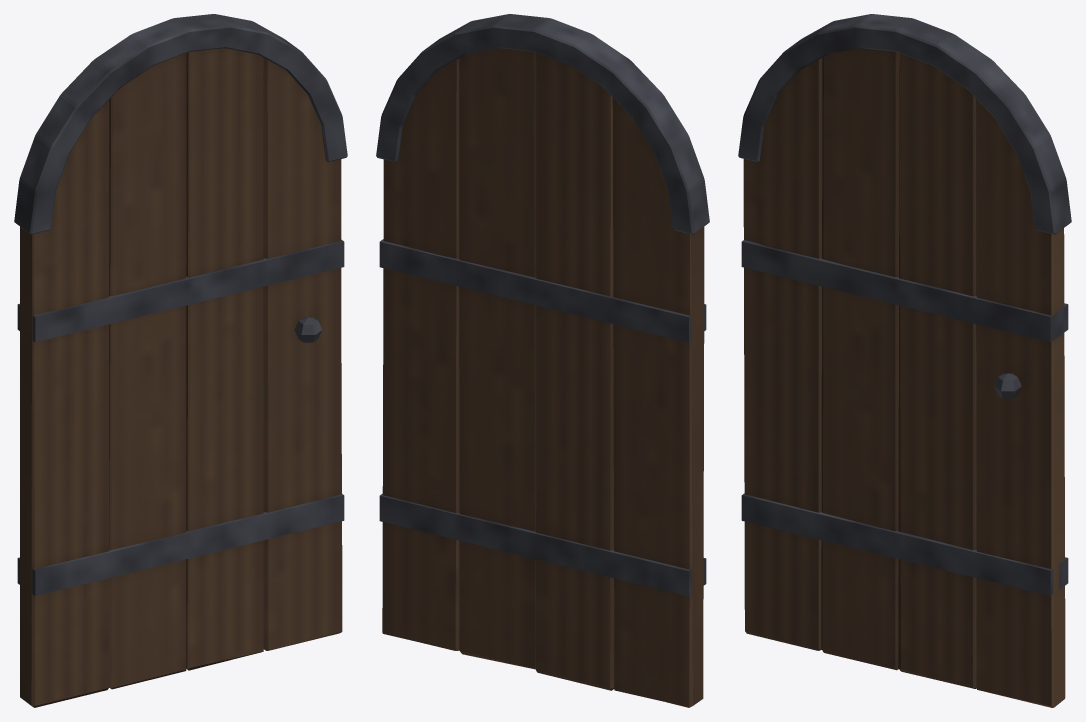
File: door_arch_01_godot.glb
3 views of the same model, side by side, from view 1: azimuth 30°, elevation 25°; view 2: azimuth 150°, elevation 25°; view 3: azimuth 330°, elevation 25° (orthographic).
Visible parts, largest first — view 1: door_arch_01; view 2: door_arch_01; view 3: door_arch_01.
Boxes of the visible parts, x1,y1,x2,y2 form: door_arch_01: [14, 14, 347, 707]; door_arch_01: [376, 14, 709, 707]; door_arch_01: [738, 14, 1071, 707].
Size of what is drawn, in the model's own units: 1.05 by 2.03 by 0.16.
Materials: 2 (2 with a texture image).
